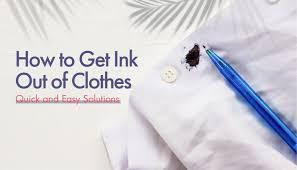ink: (186, 45, 200, 68)
